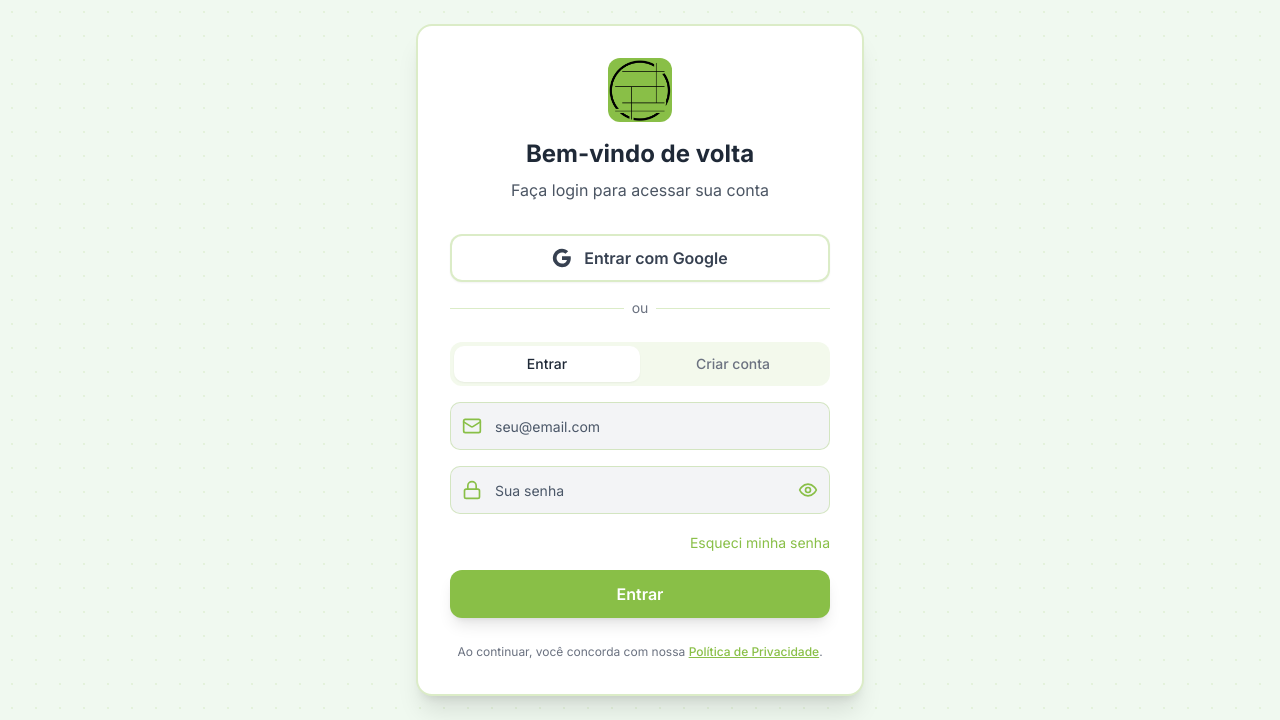
Test: LoginPage › Quando não está autenticado › deve alternar entre modo login e registro
Click the button "Criar conta" at (733, 364), box [640,346,826,382]
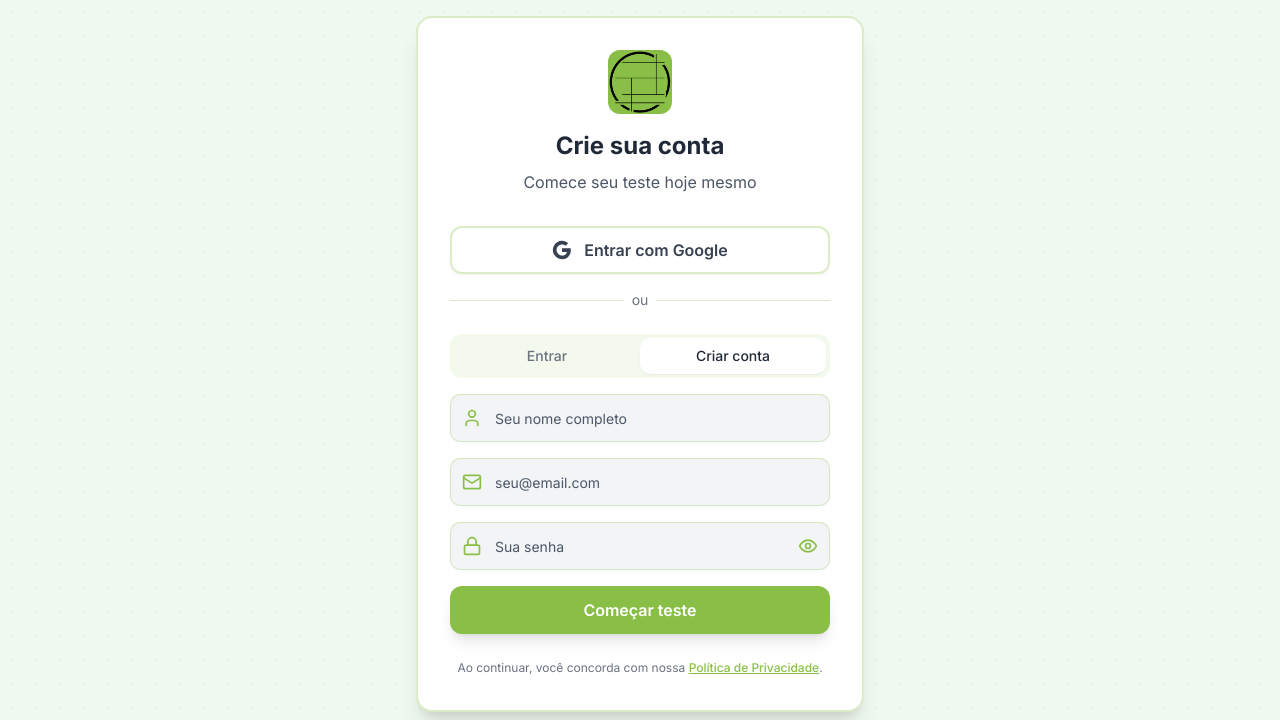
Now the heading "Crie sua conta" is shown, box [556,131,724,160]
Now the field with placeholder "Seu nome completo" is shown, box [450,394,830,442]
